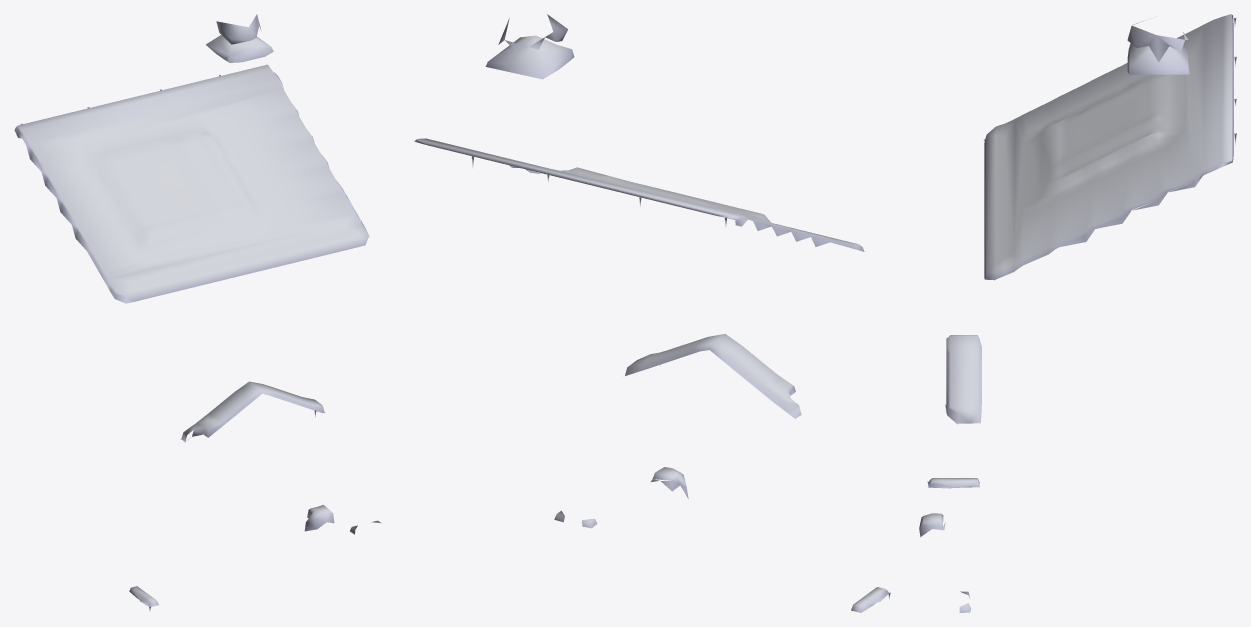
The model's file is category.nft.m.snow.glb.
3 renders of one model, left to right at view 1: azimuth 30°, elevation 25°; view 2: azimuth 150°, elevation 25°; view 3: azimuth 270°, elevation 25°, orthographic. The views are drawn at different scales.
Visible parts, largest first — view 1: snow, tier.4, tier.6; view 2: snow, tier.4; view 3: snow, tier.4, tier.6.
Part boxes in pixels (bbox=[...]): snow: bbox=[14, 64, 381, 611]; tier.4: bbox=[206, 35, 273, 62]; tier.6: bbox=[216, 14, 261, 44]; snow: bbox=[414, 138, 890, 612]; tier.4: bbox=[485, 35, 574, 79]; snow: bbox=[919, 14, 1236, 612]; tier.4: bbox=[1127, 43, 1189, 74]; tier.6: bbox=[1127, 21, 1188, 62].
Bounding box in the file's own units: 5.06 × 9.06 × 4.56.
